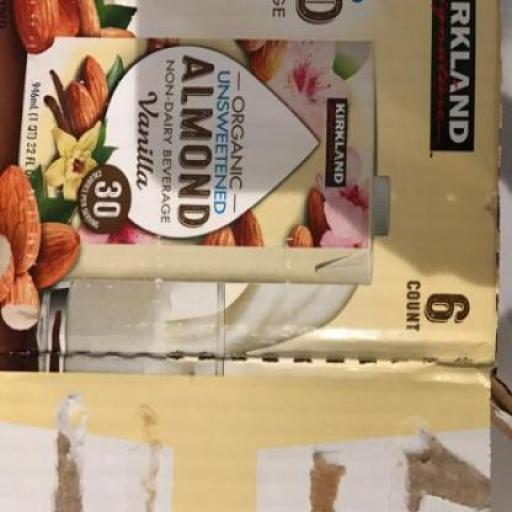cardboard: (0, 0, 501, 511)
